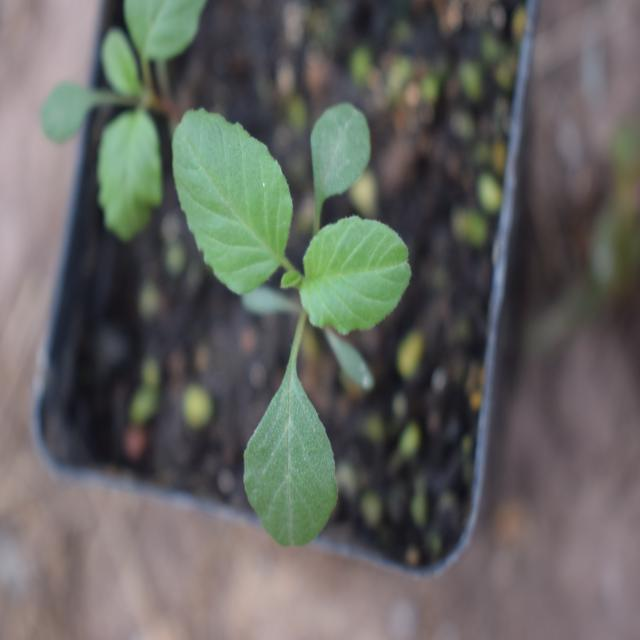pigweed: (173, 105, 400, 522)
